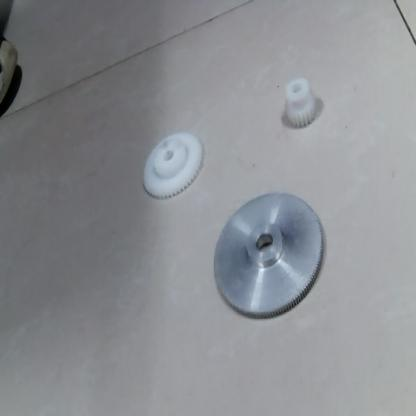FOD: (211, 196, 327, 319), (138, 128, 204, 202), (279, 76, 318, 131)
